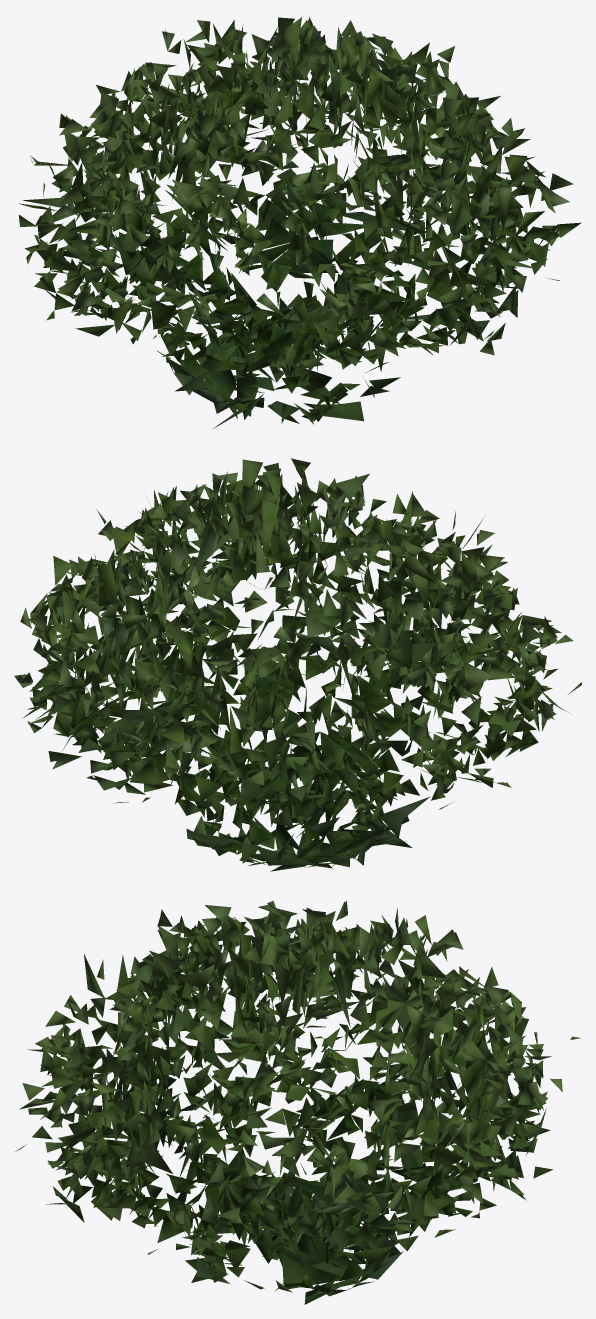
Rendered from temperate-bush.glb.
3 views of the same model, one above another, from view 1: azimuth 30°, elevation 25°; view 2: azimuth 150°, elevation 25°; view 3: azimuth 270°, elevation 25° (orthographic).
Visible parts, largest first — view 1: Mesh_0; view 2: Mesh_0; view 3: Mesh_0.
Boxes of the visible parts, x1,y1,x2,y2 form: Mesh_0: [19, 17, 581, 428]; Mesh_0: [14, 458, 581, 871]; Mesh_0: [15, 900, 581, 1304].
Bounding box in the file's own units: 2.93 × 2.06 × 2.87.
Materials: 1 (1 with a texture image).
